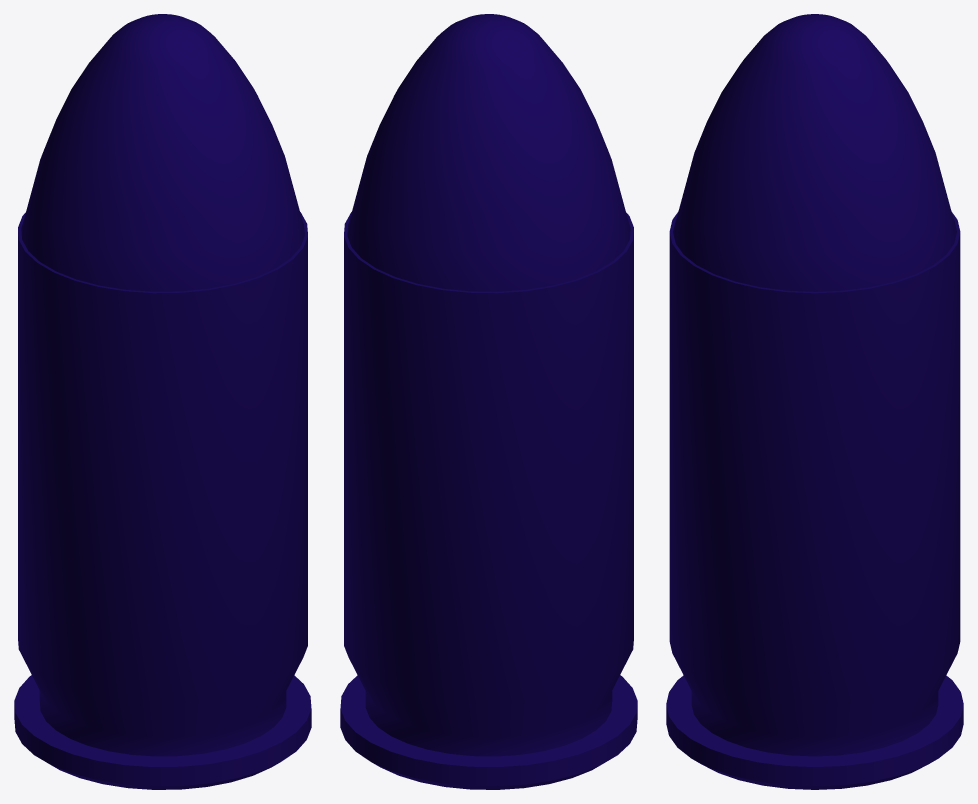
File: Bullet_045 (HQ).FBX
3 views of the same model, side by side, from view 1: azimuth 30°, elevation 25°; view 2: azimuth 150°, elevation 25°; view 3: azimuth 270°, elevation 25° (orthographic).
Visible parts, largest first — view 1: Shell, Bullet; view 2: Shell, Bullet; view 3: Shell, Bullet.
Part boxes in pixels (left/top/right/bottom): Shell: left=14, top=212, right=311, bottom=789; Bullet: left=21, top=14, right=304, bottom=291; Shell: left=340, top=212, right=637, bottom=789; Bullet: left=347, top=14, right=630, bottom=291; Shell: left=666, top=212, right=963, bottom=789; Bullet: left=673, top=14, right=956, bottom=291.
Size of the model in its own units: 1.18 by 3.12 by 1.18.
